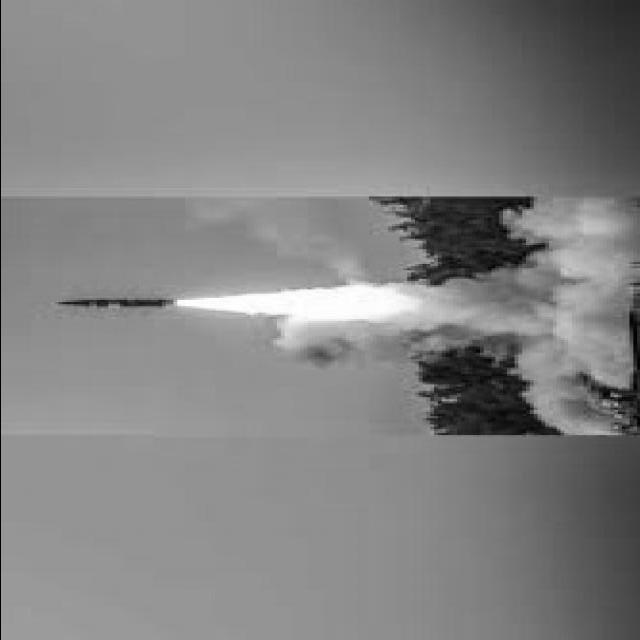Missile: (47, 296, 186, 309)
